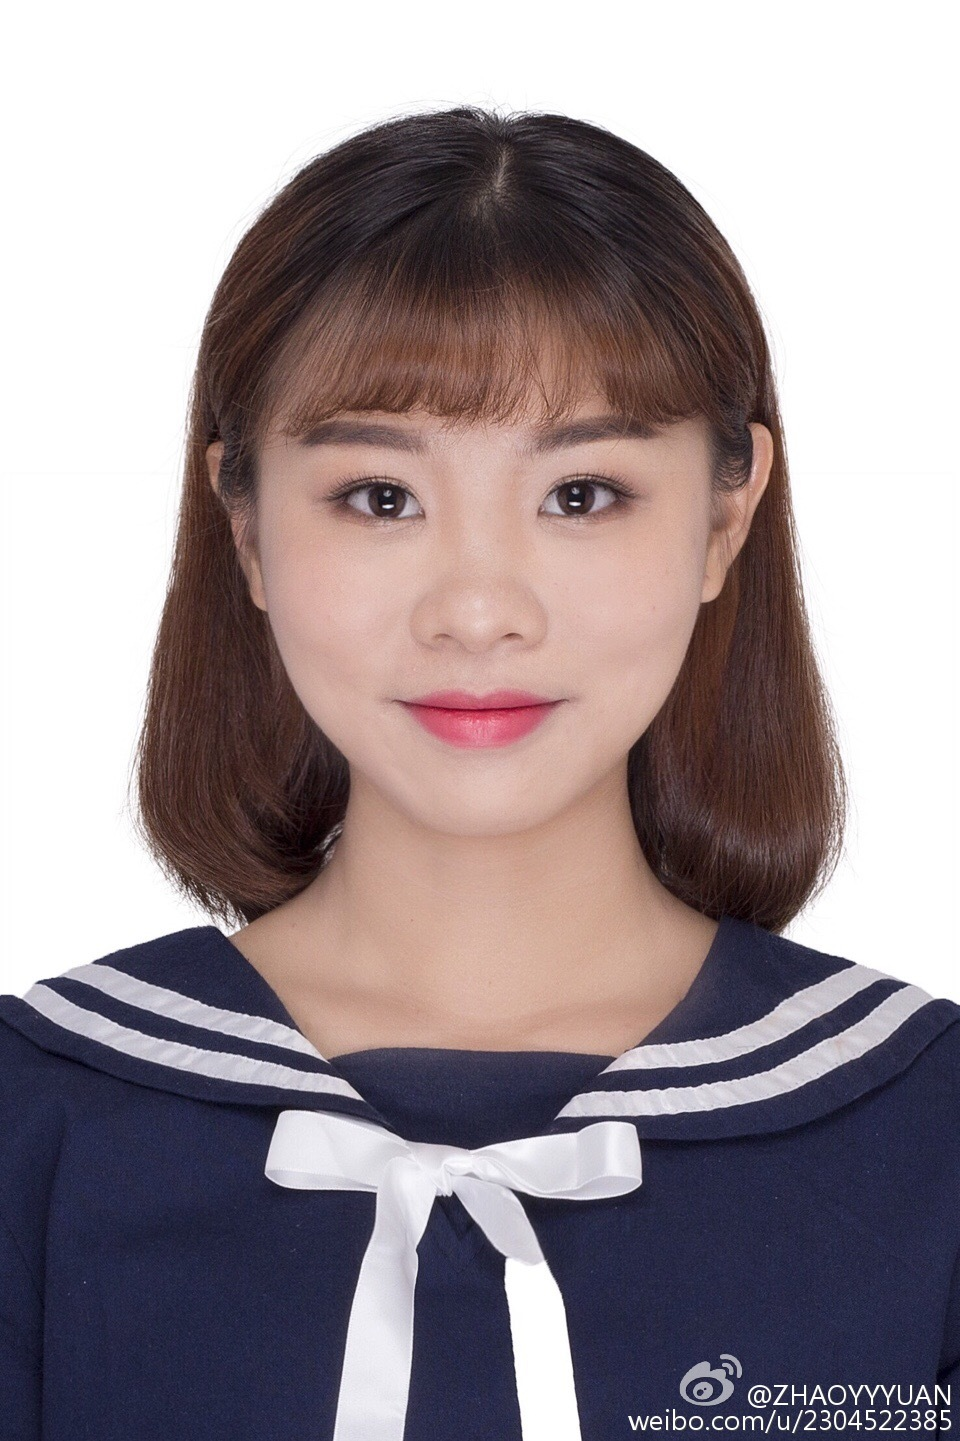unmask: (257, 339, 738, 834)
